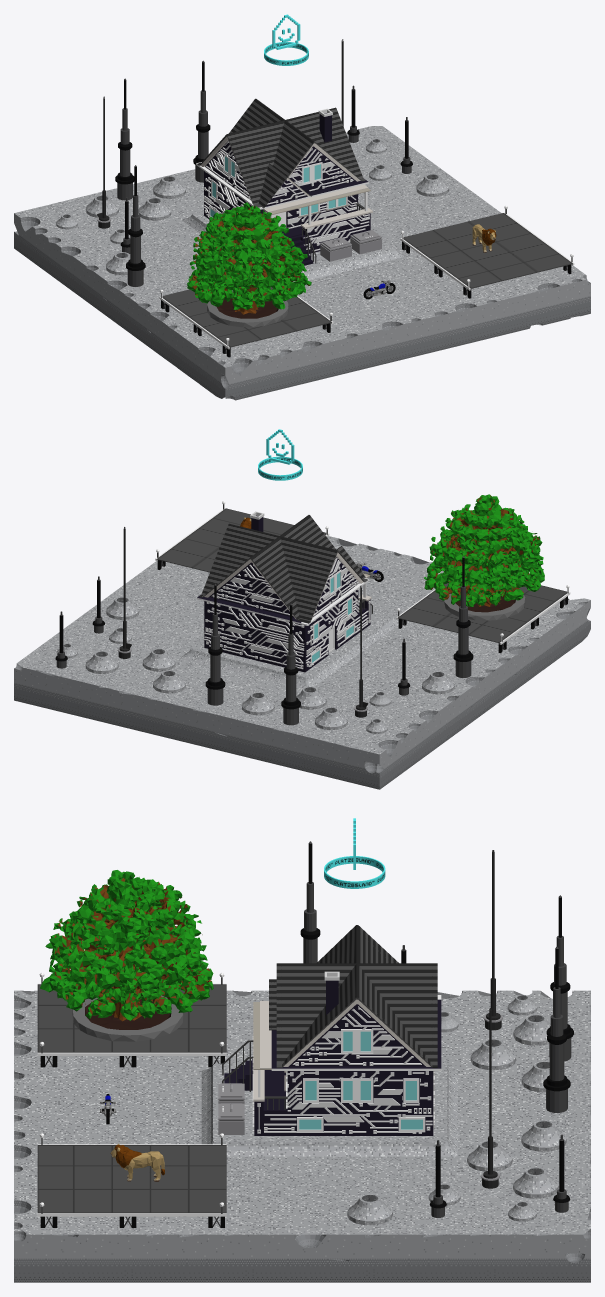
3 views of the same model, one above another, from view 1: azimuth 30°, elevation 25°; view 2: azimuth 150°, elevation 25°; view 3: azimuth 270°, elevation 25° (orthographic). The views are drawn at different scales.
Visible parts, largest first — view 1: Cube.027, Cube.918, OBJRANDOM_CEIBA, Cube.026, Cube.025, Cube.028, Cylinder.021, Cylinder.020, Cylinder.017, TYPE_PREMIUM, Cube.029, Cube.030 (+3 smaller); view 2: Cube.027, Cube.918, OBJRANDOM_CEIBA, Cube.025, Cube.028, Cube.026, Cylinder.017, Cylinder.021, Cylinder.020, TYPE_PREMIUM, Cylinder.030, Cylinder.029 (+7 smaller); view 3: Cube.027, Cube.918, OBJRANDOM_CEIBA, Cube.026, Cube.028, Cube.025, Cylinder.017, Cylinder.020, Cylinder.021, TYPE_PREMIUM, ANIMAL_LEON, Cylinder.033 (+11 smaller).
Part boxes in pixels (x1=…): Cube.027: x1=14, y1=126, x2=590, y2=400; Cube.918: x1=196, y1=98, x2=372, y2=265; OBJRANDOM_CEIBA: x1=187, y1=202, x2=311, y2=327; Cube.026: x1=400, y1=205, x2=574, y2=298; Cube.025: x1=159, y1=287, x2=333, y2=357; Cube.028: x1=182, y1=211, x2=403, y2=281; Cylinder.021: x1=126, y1=165, x2=145, y2=286; Cylinder.020: x1=115, y1=78, x2=134, y2=200; Cylinder.017: x1=193, y1=60, x2=210, y2=182; TYPE_PREMIUM: x1=264, y1=14, x2=308, y2=65; Cube.029: x1=320, y1=237, x2=351, y2=261; Cube.030: x1=350, y1=230, x2=381, y2=254; Cube.027: x1=14, y1=536, x2=590, y2=789; Cube.918: x1=197, y1=511, x2=372, y2=672; OBJRANDOM_CEIBA: x1=424, y1=494, x2=544, y2=620; Cube.025: x1=396, y1=583, x2=570, y2=653; Cube.028: x1=181, y1=610, x2=398, y2=688; Cube.026: x1=155, y1=501, x2=329, y2=572; Cylinder.017: x1=205, y1=583, x2=225, y2=705; Cylinder.021: x1=453, y1=556, x2=473, y2=677; Cylinder.020: x1=281, y1=603, x2=300, y2=725; TYPE_PREMIUM: x1=258, y1=429, x2=302, y2=480; Cylinder.030: x1=142, y1=648, x2=175, y2=671; Cylinder.029: x1=153, y1=670, x2=185, y2=693; Cube.027: x1=14, y1=990, x2=590, y2=1282; Cube.918: x1=222, y1=925, x2=441, y2=1135; OBJRANDOM_CEIBA: x1=40, y1=870, x2=213, y2=1041; Cube.026: x1=37, y1=1133, x2=226, y2=1227; Cube.028: x1=201, y1=1063, x2=457, y2=1156; Cube.025: x1=37, y1=973, x2=226, y2=1067; Cylinder.017: x1=543, y1=946, x2=570, y2=1112; Cylinder.020: x1=546, y1=895, x2=573, y2=1061; Cylinder.021: x1=300, y1=841, x2=320, y2=963; TYPE_PREMIUM: x1=324, y1=818, x2=385, y2=888; ANIMAL_LEON: x1=110, y1=1143, x2=164, y2=1181; Cylinder.033: x1=347, y1=1194, x2=392, y2=1225.
Size of the model in its own units: 4000 by 2804 by 4000.
Materials: 37 (5 with a texture image).
